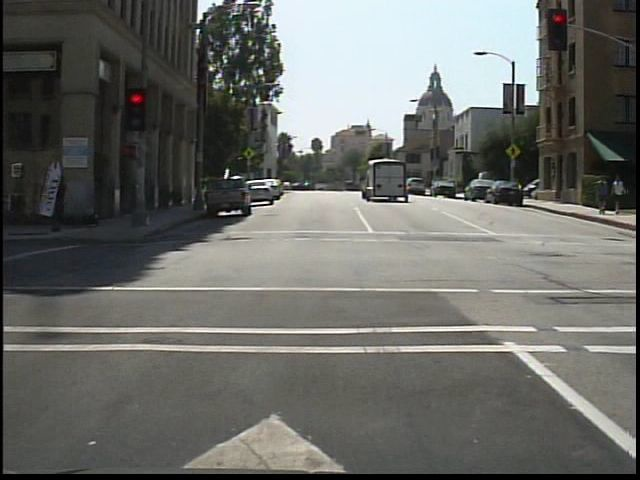person: (44, 164, 85, 235), (592, 176, 612, 219), (611, 175, 626, 219)
